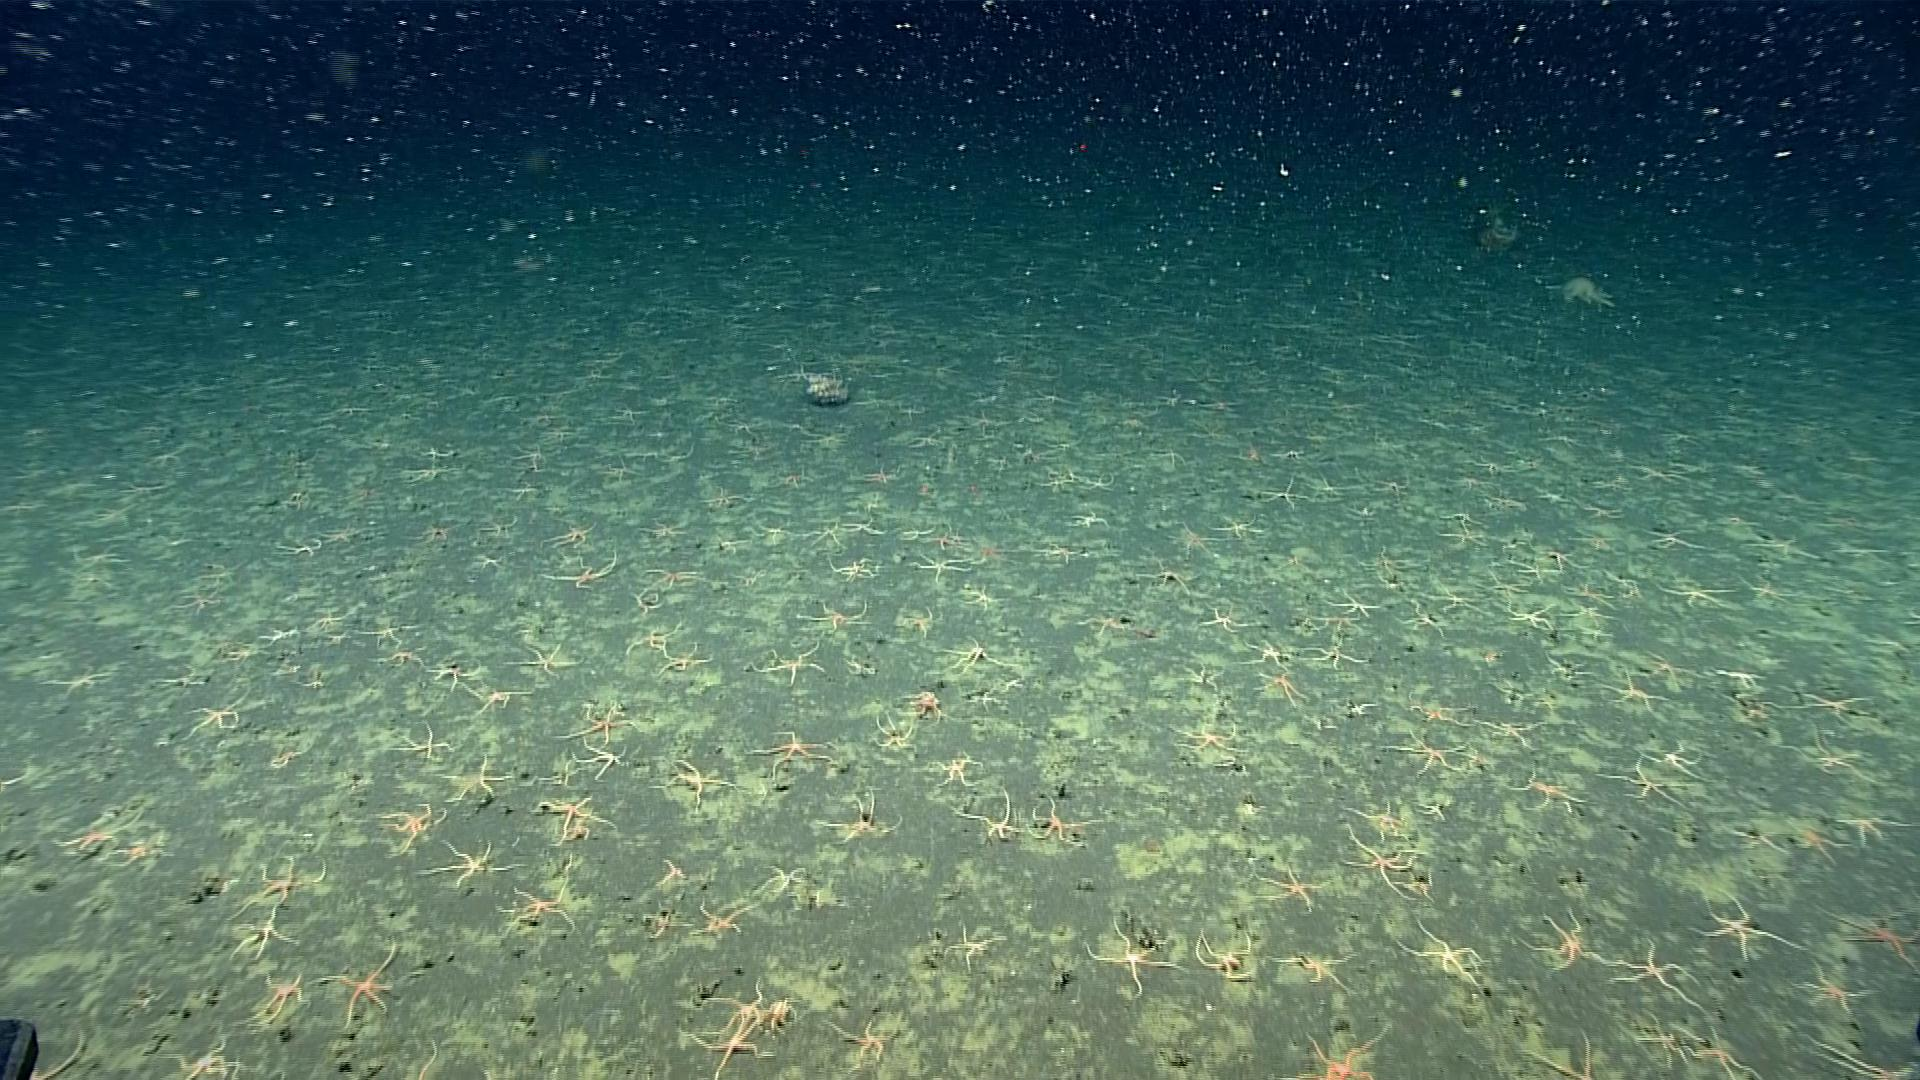brittle_sea_star: (1684, 887, 1807, 960), (1601, 938, 1716, 1010), (310, 936, 398, 1027), (1084, 916, 1183, 997), (1394, 915, 1491, 992), (1514, 903, 1617, 972), (1816, 902, 1919, 965), (1342, 820, 1418, 905), (1282, 1023, 1394, 1079), (229, 855, 327, 914), (679, 1015, 774, 1075), (702, 977, 798, 1035), (1598, 756, 1700, 810), (1792, 957, 1875, 1018), (415, 840, 521, 887), (1523, 1027, 1615, 1079), (1804, 1038, 1919, 1079), (742, 729, 837, 778), (533, 791, 616, 847), (823, 793, 903, 849), (51, 810, 141, 860), (371, 799, 446, 857), (240, 967, 309, 1030), (498, 628, 578, 682), (1783, 728, 1866, 779), (227, 905, 302, 961), (1026, 791, 1101, 848), (653, 757, 740, 806), (502, 877, 576, 934), (949, 787, 1025, 843), (1378, 729, 1469, 774), (1685, 1023, 1758, 1079), (551, 700, 633, 749), (438, 758, 518, 806), (1273, 949, 1360, 993), (1594, 666, 1669, 716), (1193, 924, 1257, 982), (1511, 769, 1584, 815), (1254, 862, 1320, 913), (539, 549, 620, 589), (182, 691, 249, 740), (942, 923, 1009, 972), (167, 1035, 243, 1079), (753, 641, 828, 684), (1344, 795, 1416, 840), (825, 1017, 897, 1062), (1400, 691, 1476, 733), (1170, 719, 1245, 758), (692, 895, 757, 940), (1634, 1013, 1687, 1067), (30, 1029, 86, 1079), (936, 634, 1005, 674), (571, 742, 632, 786), (1651, 738, 1710, 782), (796, 601, 873, 634), (1474, 715, 1547, 749), (909, 546, 982, 579), (50, 666, 116, 703), (636, 560, 713, 591), (460, 680, 529, 715), (357, 613, 423, 649), (1304, 636, 1367, 673), (1139, 559, 1203, 596), (1394, 601, 1449, 644), (1193, 601, 1263, 634), (1427, 580, 1489, 617), (1749, 533, 1820, 564), (1253, 666, 1309, 705), (1662, 580, 1742, 608), (1799, 688, 1875, 717), (1258, 472, 1312, 513), (752, 860, 814, 895), (616, 626, 684, 658), (393, 721, 450, 760), (386, 1039, 439, 1079), (538, 518, 601, 551), (421, 658, 480, 692), (1327, 587, 1385, 621), (868, 711, 916, 750), (1167, 521, 1221, 556), (930, 750, 980, 789), (638, 905, 690, 942), (171, 582, 224, 617), (824, 555, 887, 584), (1484, 563, 1531, 601), (1207, 510, 1263, 542), (1837, 815, 1909, 839), (301, 601, 351, 636), (394, 463, 463, 488), (1639, 525, 1702, 551), (1742, 576, 1799, 605), (634, 512, 688, 542), (372, 637, 421, 669), (1505, 601, 1557, 630), (653, 654, 713, 679), (109, 837, 157, 869), (1076, 611, 1133, 637), (1795, 827, 1841, 858), (506, 442, 553, 473), (1511, 555, 1564, 583), (957, 580, 1002, 612), (1371, 556, 1411, 592), (253, 621, 303, 649), (799, 520, 844, 550), (273, 534, 324, 560), (897, 604, 936, 638), (696, 487, 752, 510), (626, 584, 665, 618), (1247, 641, 1294, 669), (595, 458, 644, 483), (840, 513, 886, 539), (411, 520, 456, 546), (752, 517, 795, 543), (1576, 620, 1621, 645), (477, 516, 524, 539), (903, 688, 944, 715), (654, 856, 690, 885), (1069, 506, 1110, 531), (775, 463, 814, 489), (218, 641, 260, 665), (928, 527, 968, 553), (1569, 601, 1615, 621), (469, 550, 506, 574), (862, 462, 899, 485), (1039, 542, 1080, 563), (1577, 531, 1619, 549), (899, 524, 935, 543)
